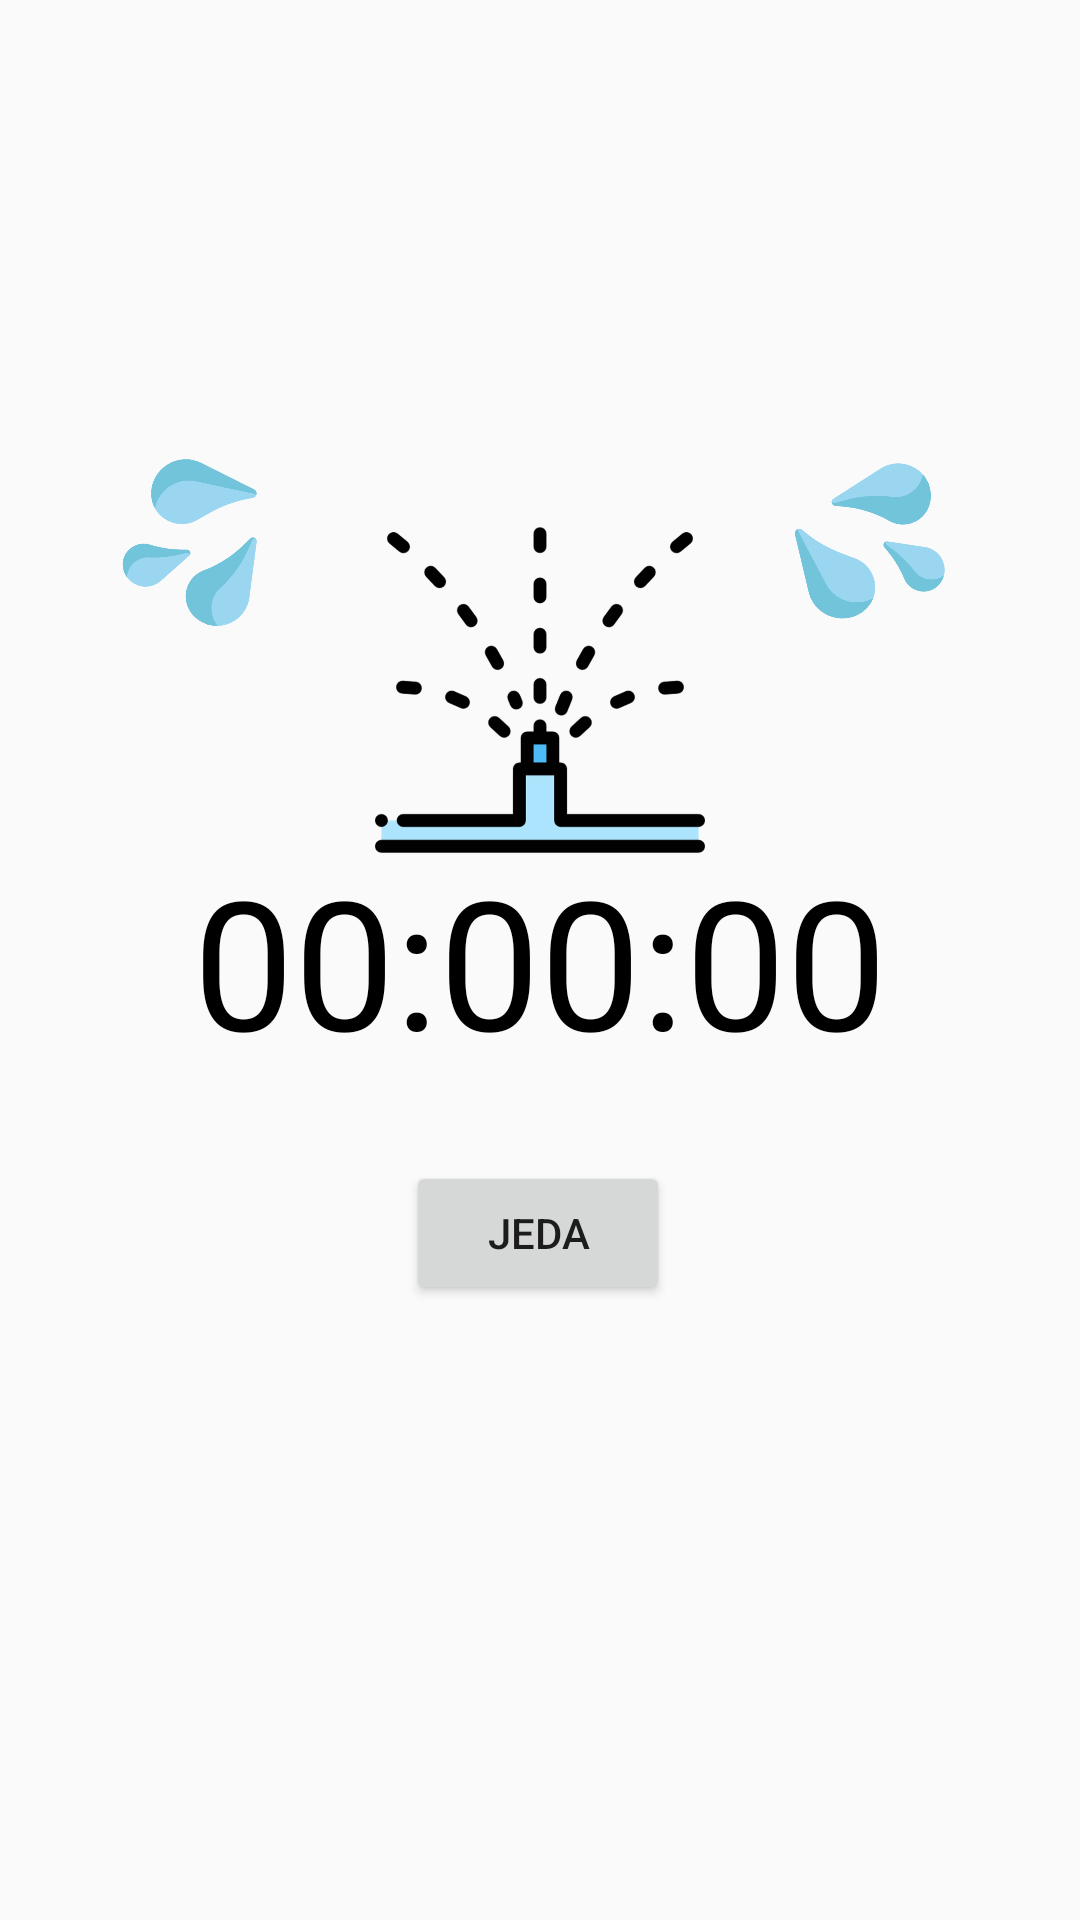

Point at icon controls on the screen. Image size 1080px×1920px, points as (x,y).
sprinkler: (540,690)
